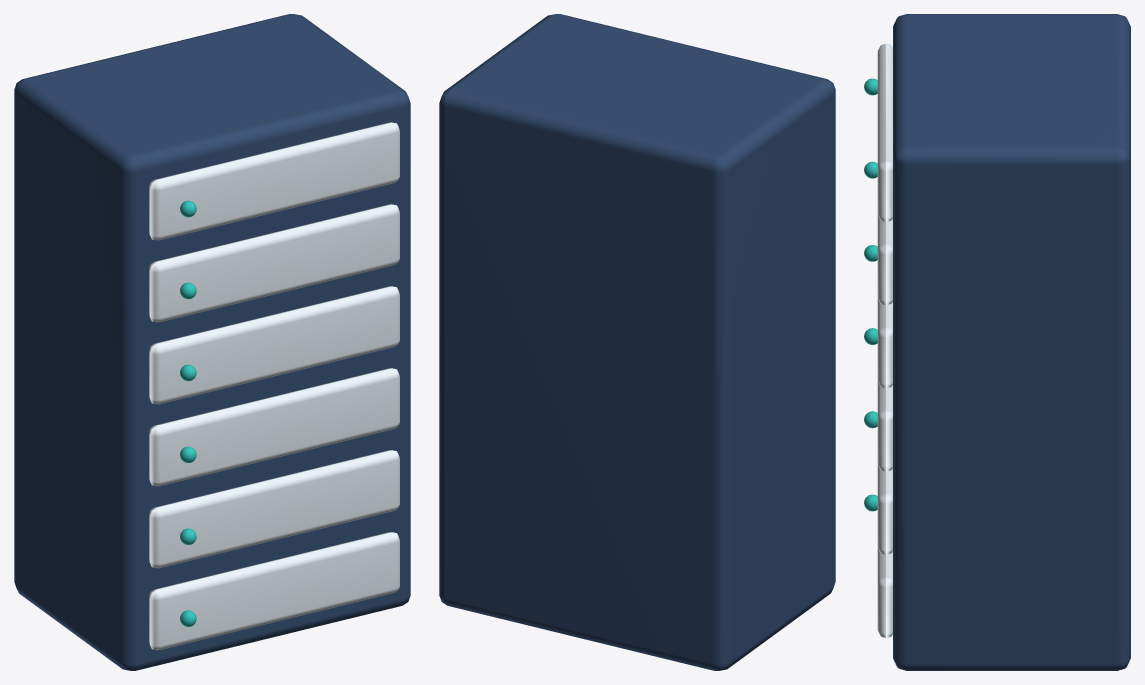
File: server-rack-lite.glb
3 renders of one model, left to right at view 1: azimuth 30°, elevation 25°; view 2: azimuth 150°, elevation 25°; view 3: azimuth 270°, elevation 25°, orthographic.
Parts seen in each view (by area): view 1: Rack cabinet; view 2: Rack cabinet; view 3: Rack cabinet.
Boxes of the visible parts, x1=… form: Rack cabinet: x1=14, y1=14, x2=410, y2=670; Rack cabinet: x1=439, y1=14, x2=835, y2=670; Rack cabinet: x1=864, y1=14, x2=1130, y2=670.
Size of the model in its own units: 1 by 1.7 by 0.785.
